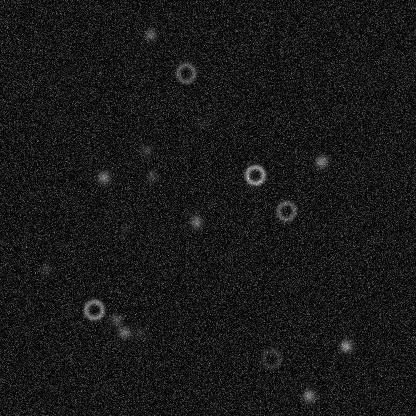Ring: (173, 60, 197, 84), (274, 198, 298, 222), (81, 297, 105, 321), (242, 162, 266, 186), (259, 346, 283, 370)
Spot: (300, 387, 316, 403), (116, 324, 132, 340), (132, 324, 148, 340), (107, 311, 123, 327), (188, 213, 204, 229), (313, 153, 329, 169), (37, 261, 53, 277), (137, 141, 153, 157), (95, 169, 111, 185), (142, 26, 158, 42), (337, 337, 353, 353), (192, 114, 208, 130), (143, 168, 159, 184), (116, 221, 132, 237)
